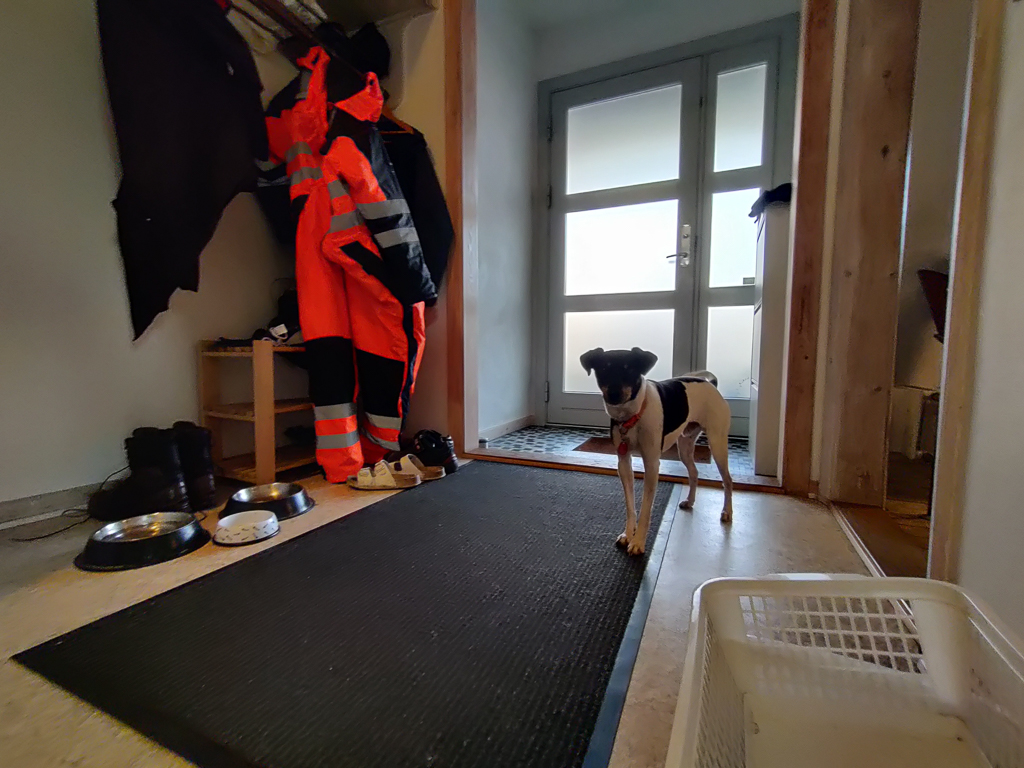Dog: (568, 327, 757, 568)
